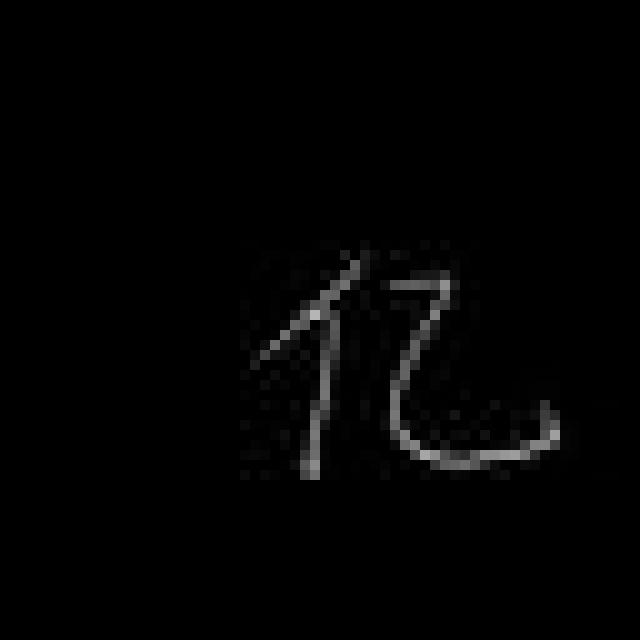100000 -a hundred thousand-: (245, 255, 574, 498)
